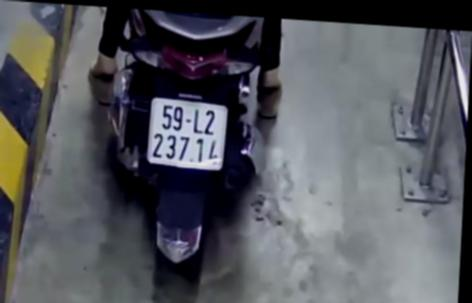License_Plate: (143, 92, 233, 176)
